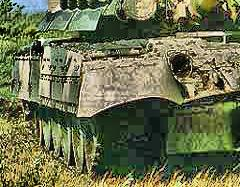tanks: (14, 1, 240, 174)
